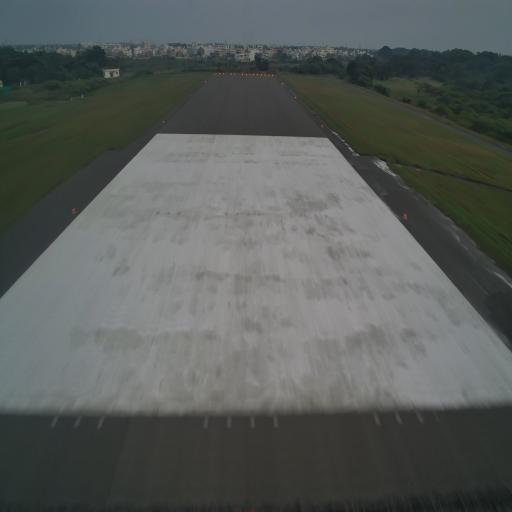off: (372, 406, 382, 433), (393, 410, 405, 429), (48, 414, 62, 430), (72, 414, 84, 431), (415, 407, 425, 427), (247, 412, 256, 433), (200, 414, 211, 430), (224, 414, 234, 431), (95, 414, 105, 430), (270, 414, 280, 429)
on: (403, 207, 409, 222), (70, 204, 76, 216)
